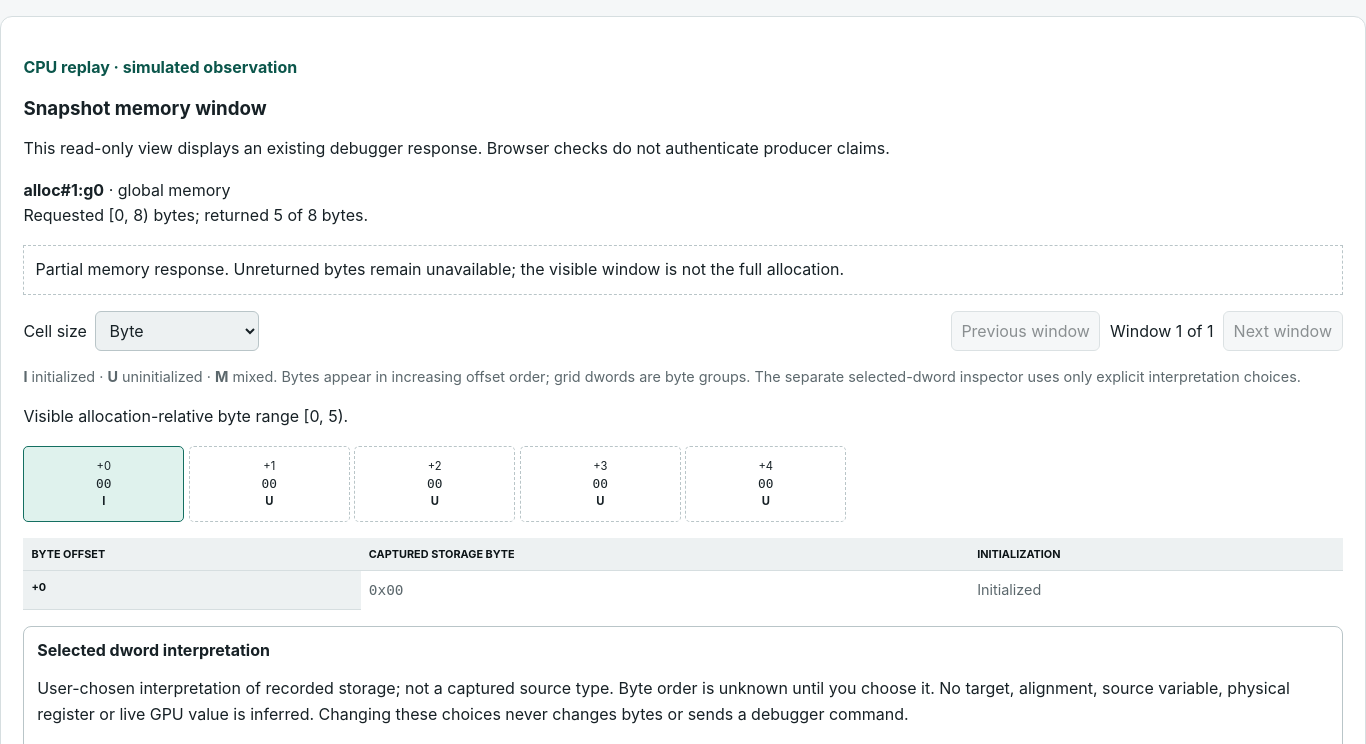
Test: resource memory view › shows partial dwords and non-color initialization distinctions
Select "Dword (4 bytes)" in the dropdown named "Memory cell size" at {"x": 177, "y": 331}, box [95,311,259,351]
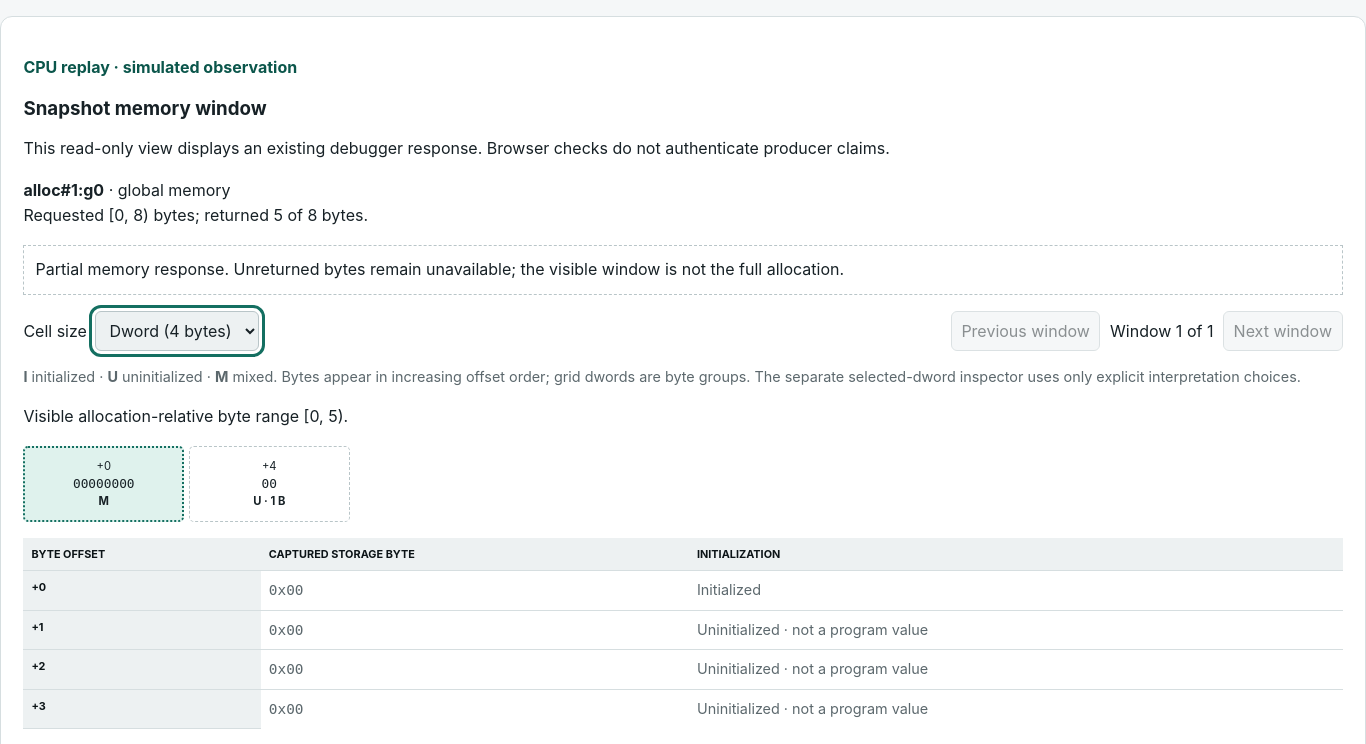
Expected: the message shows "Partial memory response", [36,259,844,279]
Expected: the button named "Byte offset 4, 1 byte, 0x00, uninitialized" shows "1 B", [189,446,350,522]
Expected: the table named "Selected memory cell details" shows "Uninitialized · not a program value", [697,621,928,638]
